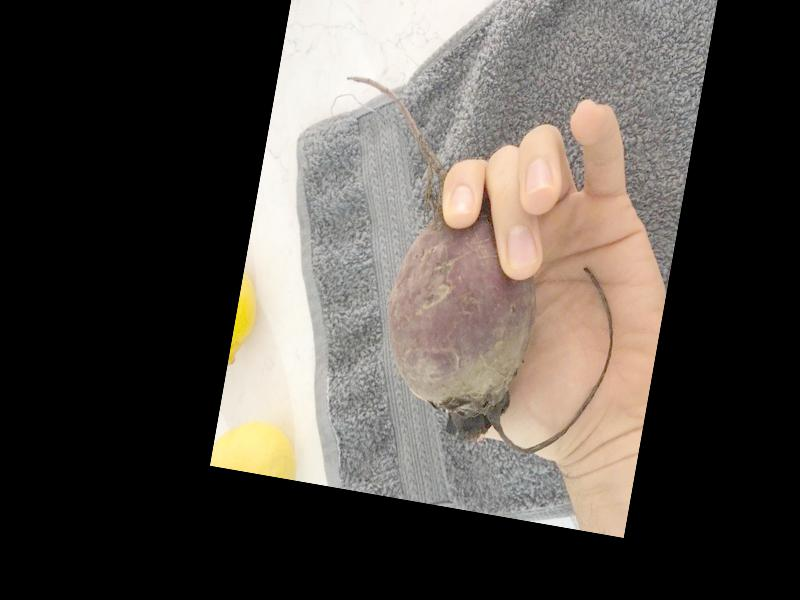Beet: (289, 75, 650, 462)
